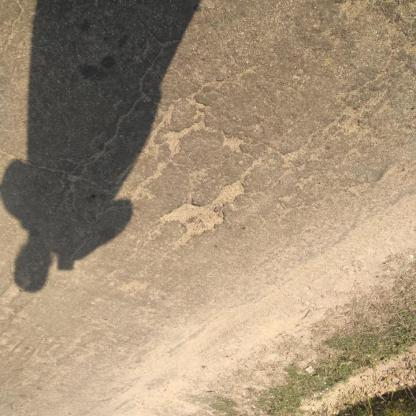pothole: (161, 181, 248, 247), (221, 134, 246, 156)
